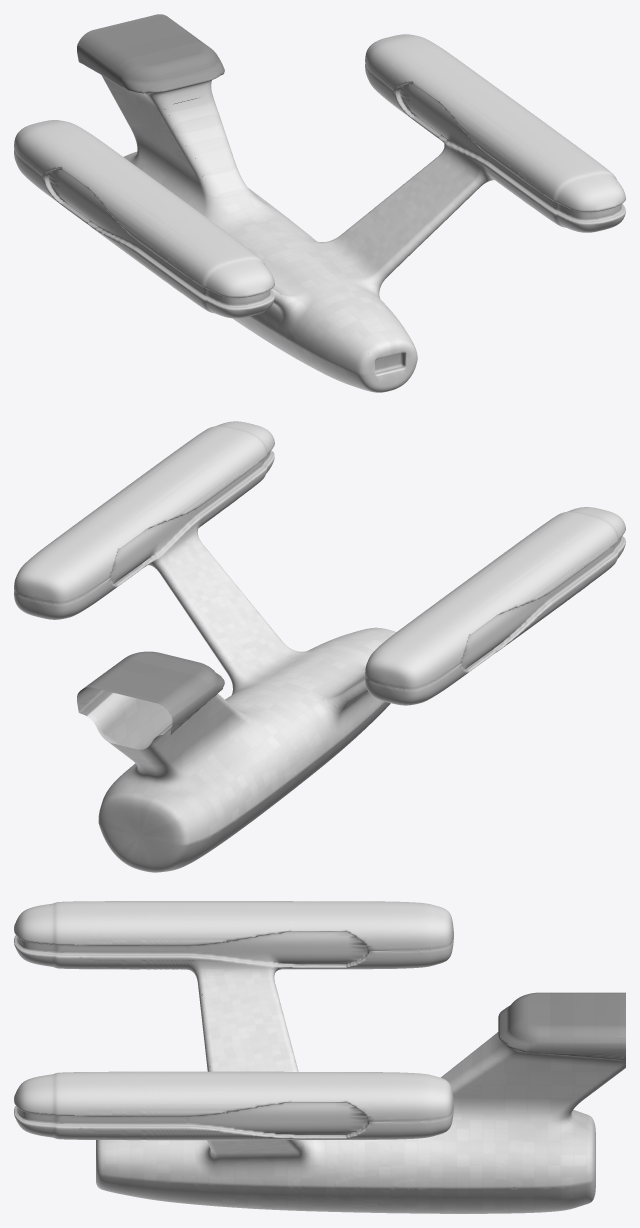
File: ship-hull.glb
The picture shows the model from 3 angles, top to bottom: view 1: azimuth 30°, elevation 25°; view 2: azimuth 150°, elevation 25°; view 3: azimuth 270°, elevation 25°; orthographic projection.
Parts seen in each view (by area): view 1: EngineeringHull; view 2: EngineeringHull; view 3: EngineeringHull.
Boxes of the visible parts, x1,y1,x2,y2 form: EngineeringHull: [14, 14, 625, 392]; EngineeringHull: [14, 421, 625, 872]; EngineeringHull: [14, 901, 625, 1213].
Size of the model in its own units: 0.4762 by 0.233 by 0.6061.
2 materials, 1 textured.
